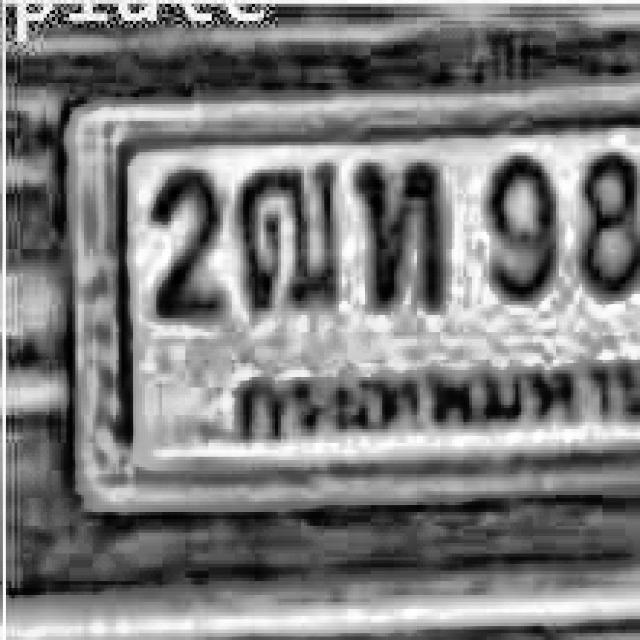license-plate: (66, 80, 640, 505)
